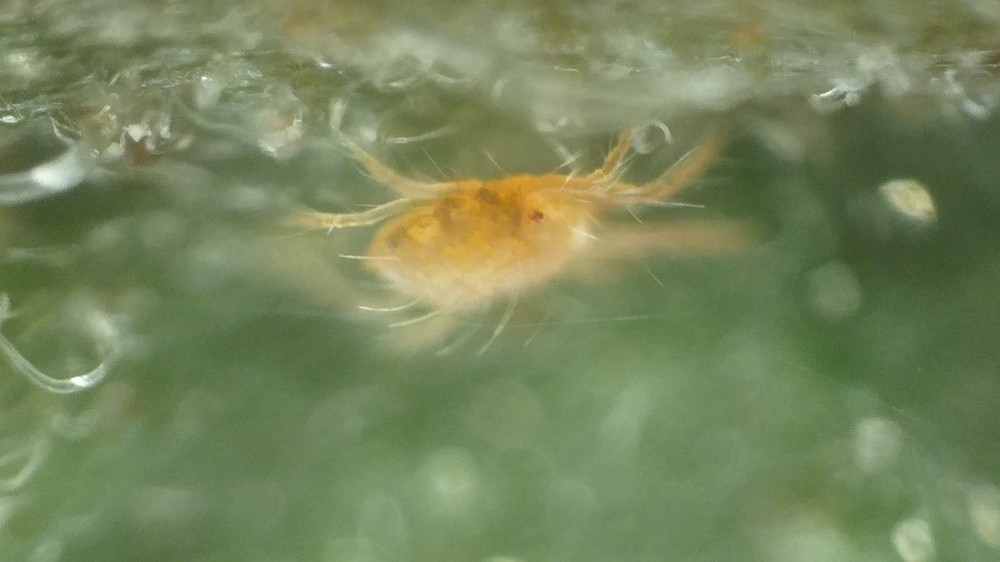Aracnido Rojo: (291, 97, 781, 358)
